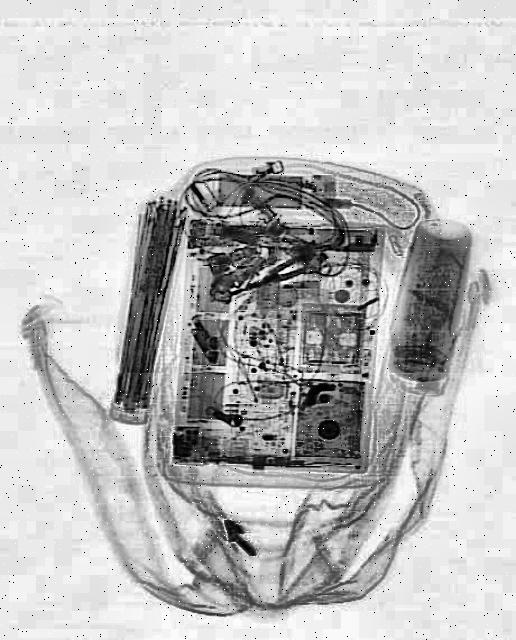Pliers: (246, 248, 310, 296)
